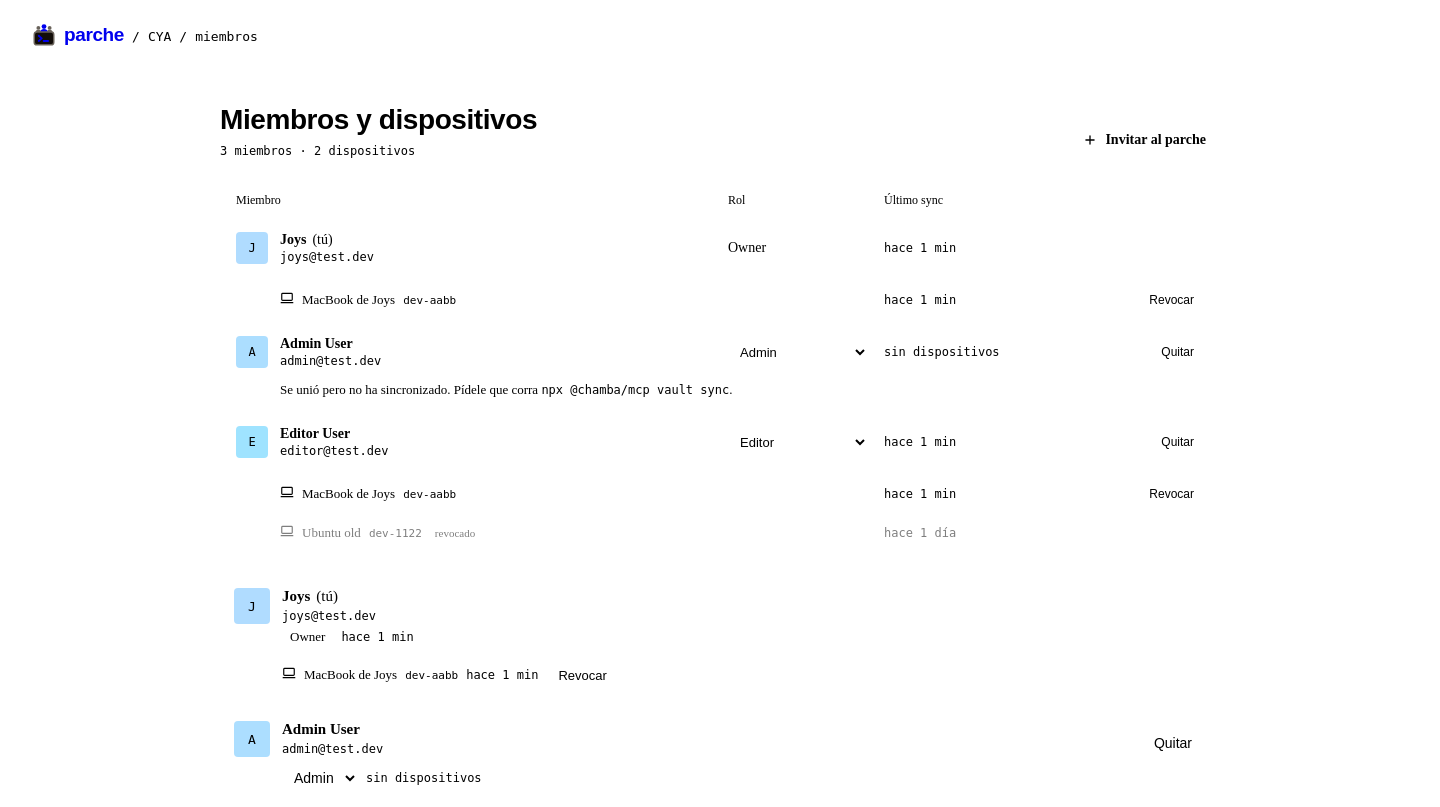
Test case: MiembrosPage › cancels confirm dialog on Cancelar click
The width and height of the screenshot is (1440, 807).
Check: the heading "Miembros y dispositivos" is shown, box top-left (220, 104), bottom-right (537, 136)
Click the button with aria-label "quitar a" at [1178, 352], box top-left (1151, 338), bottom-right (1204, 366)
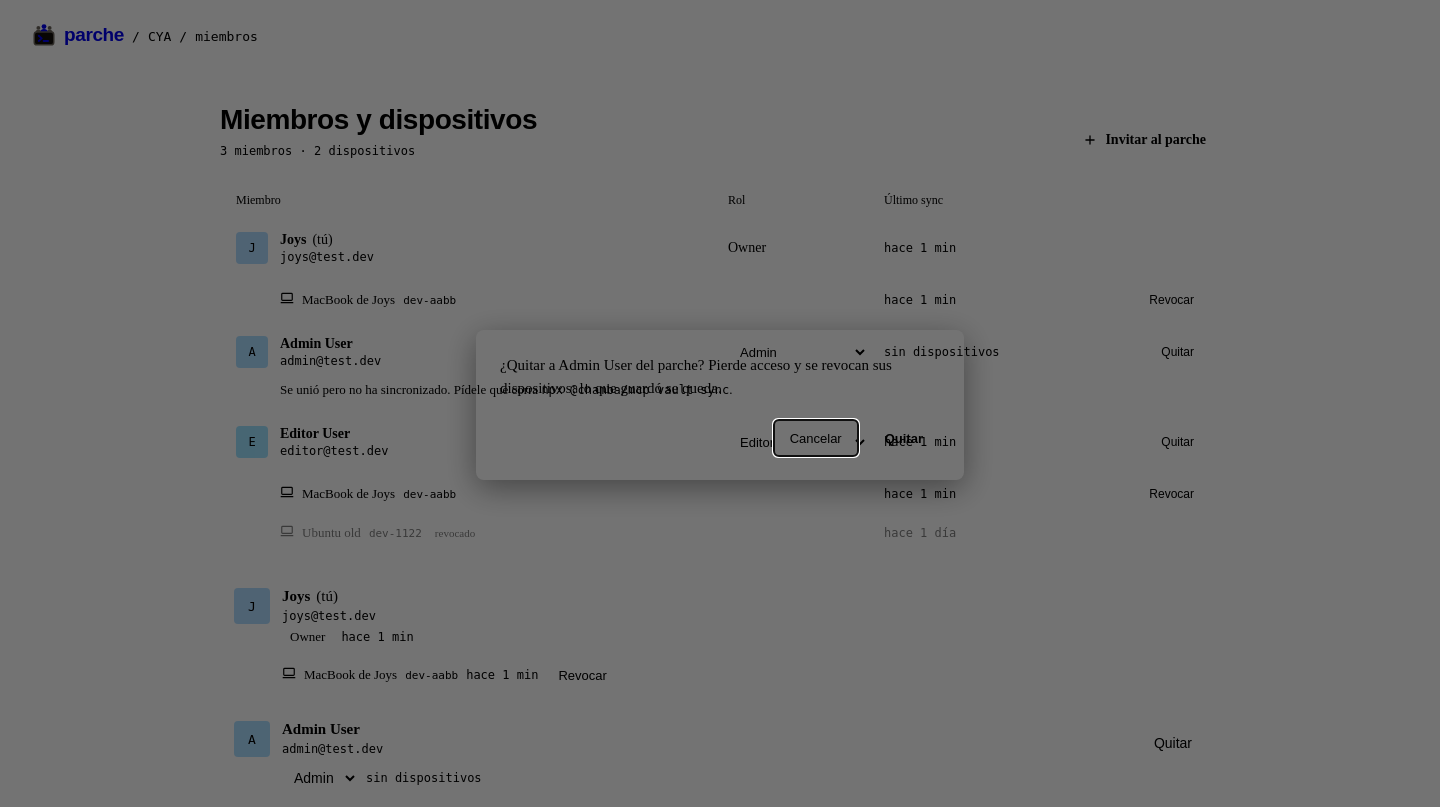
Check: the dialog is shown, box top-left (476, 330), bottom-right (964, 480)
Click the button "Cancelar" at [816, 438], box top-left (774, 420), bottom-right (858, 456)
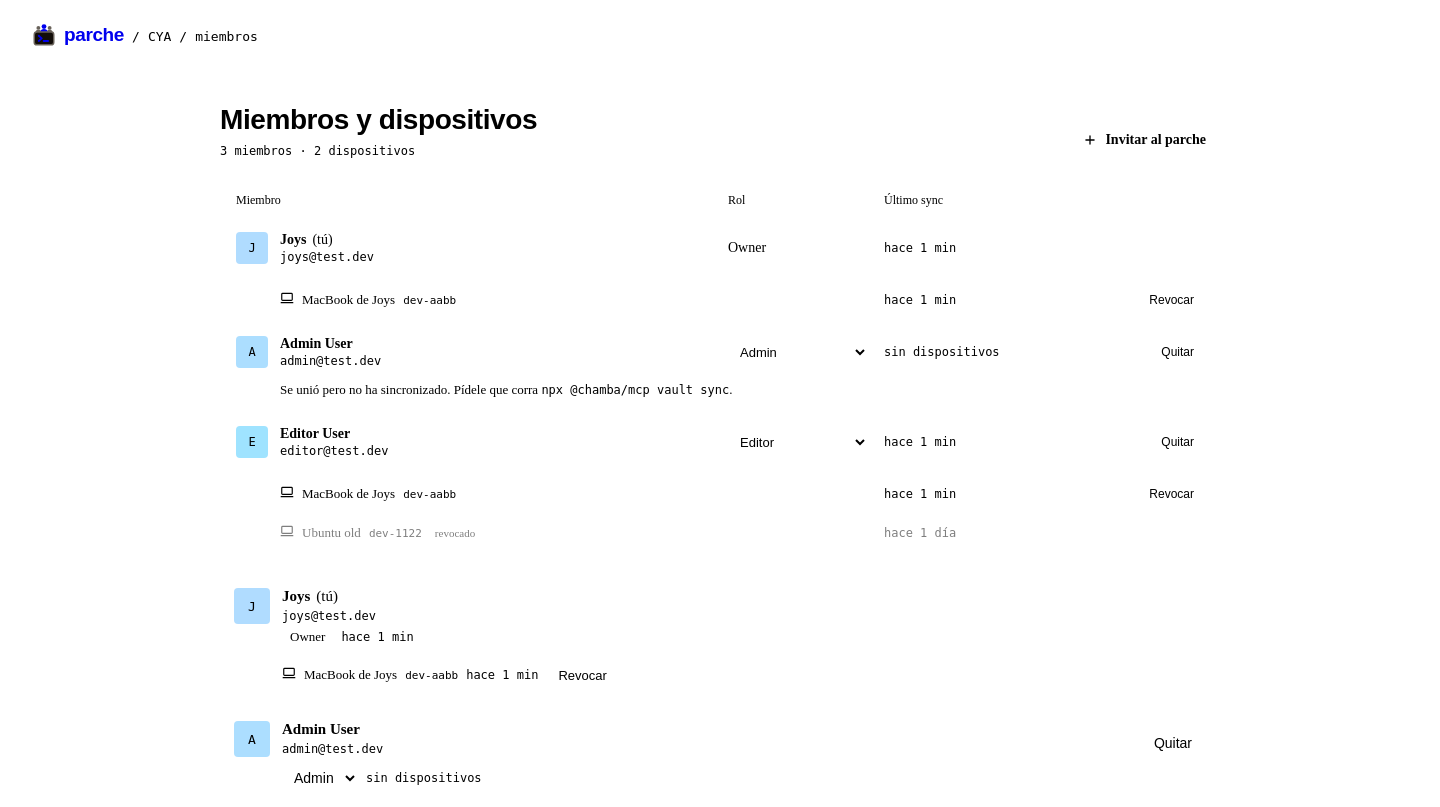
Check: the dialog is gone
